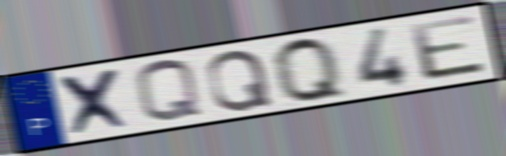4: (355, 25, 410, 90)
E: (406, 12, 491, 83)
Q: (269, 35, 352, 105), (132, 58, 208, 125), (204, 48, 276, 114)
X: (55, 65, 137, 139)
